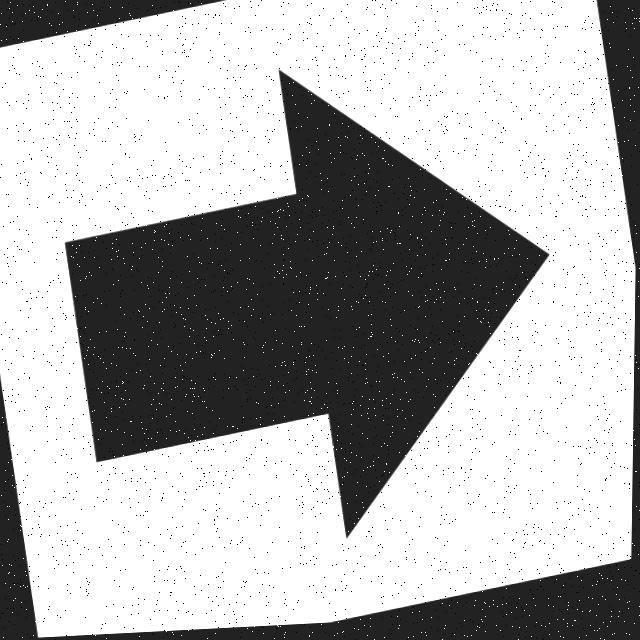RIGHT: (67, 75, 549, 537)
